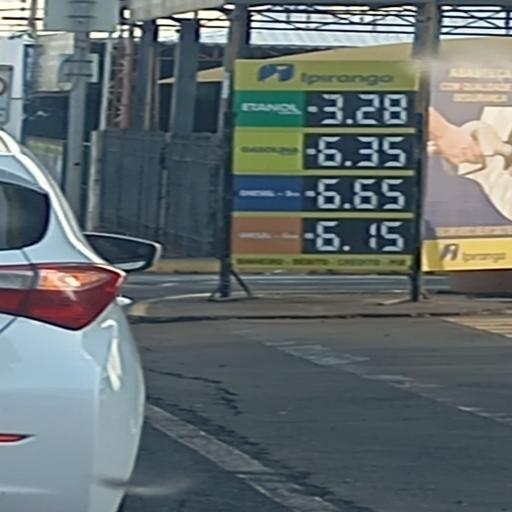ETANOL: (239, 90, 304, 127)
GASOLINA C: (234, 135, 304, 170)
S10: (232, 172, 304, 210)
S500: (233, 218, 302, 251)
placa: (230, 60, 414, 258)
preco: (313, 175, 412, 211), (316, 217, 408, 254), (320, 91, 413, 127), (316, 133, 408, 169)
